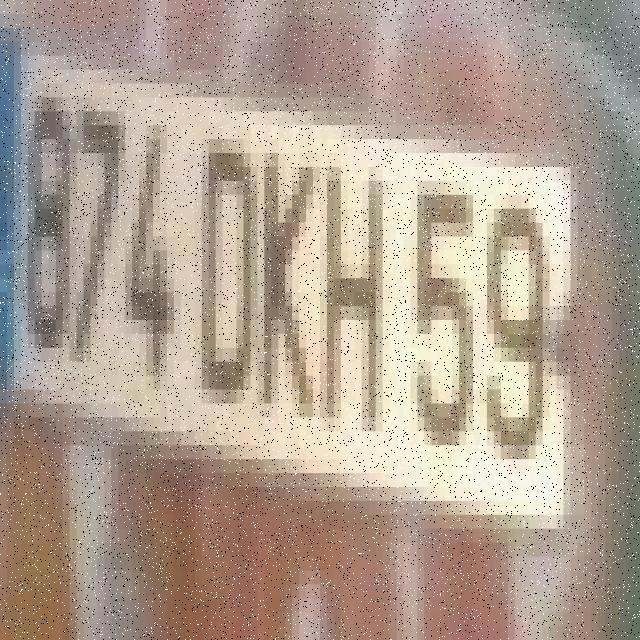LicensePlate: (0, 17, 576, 558)
